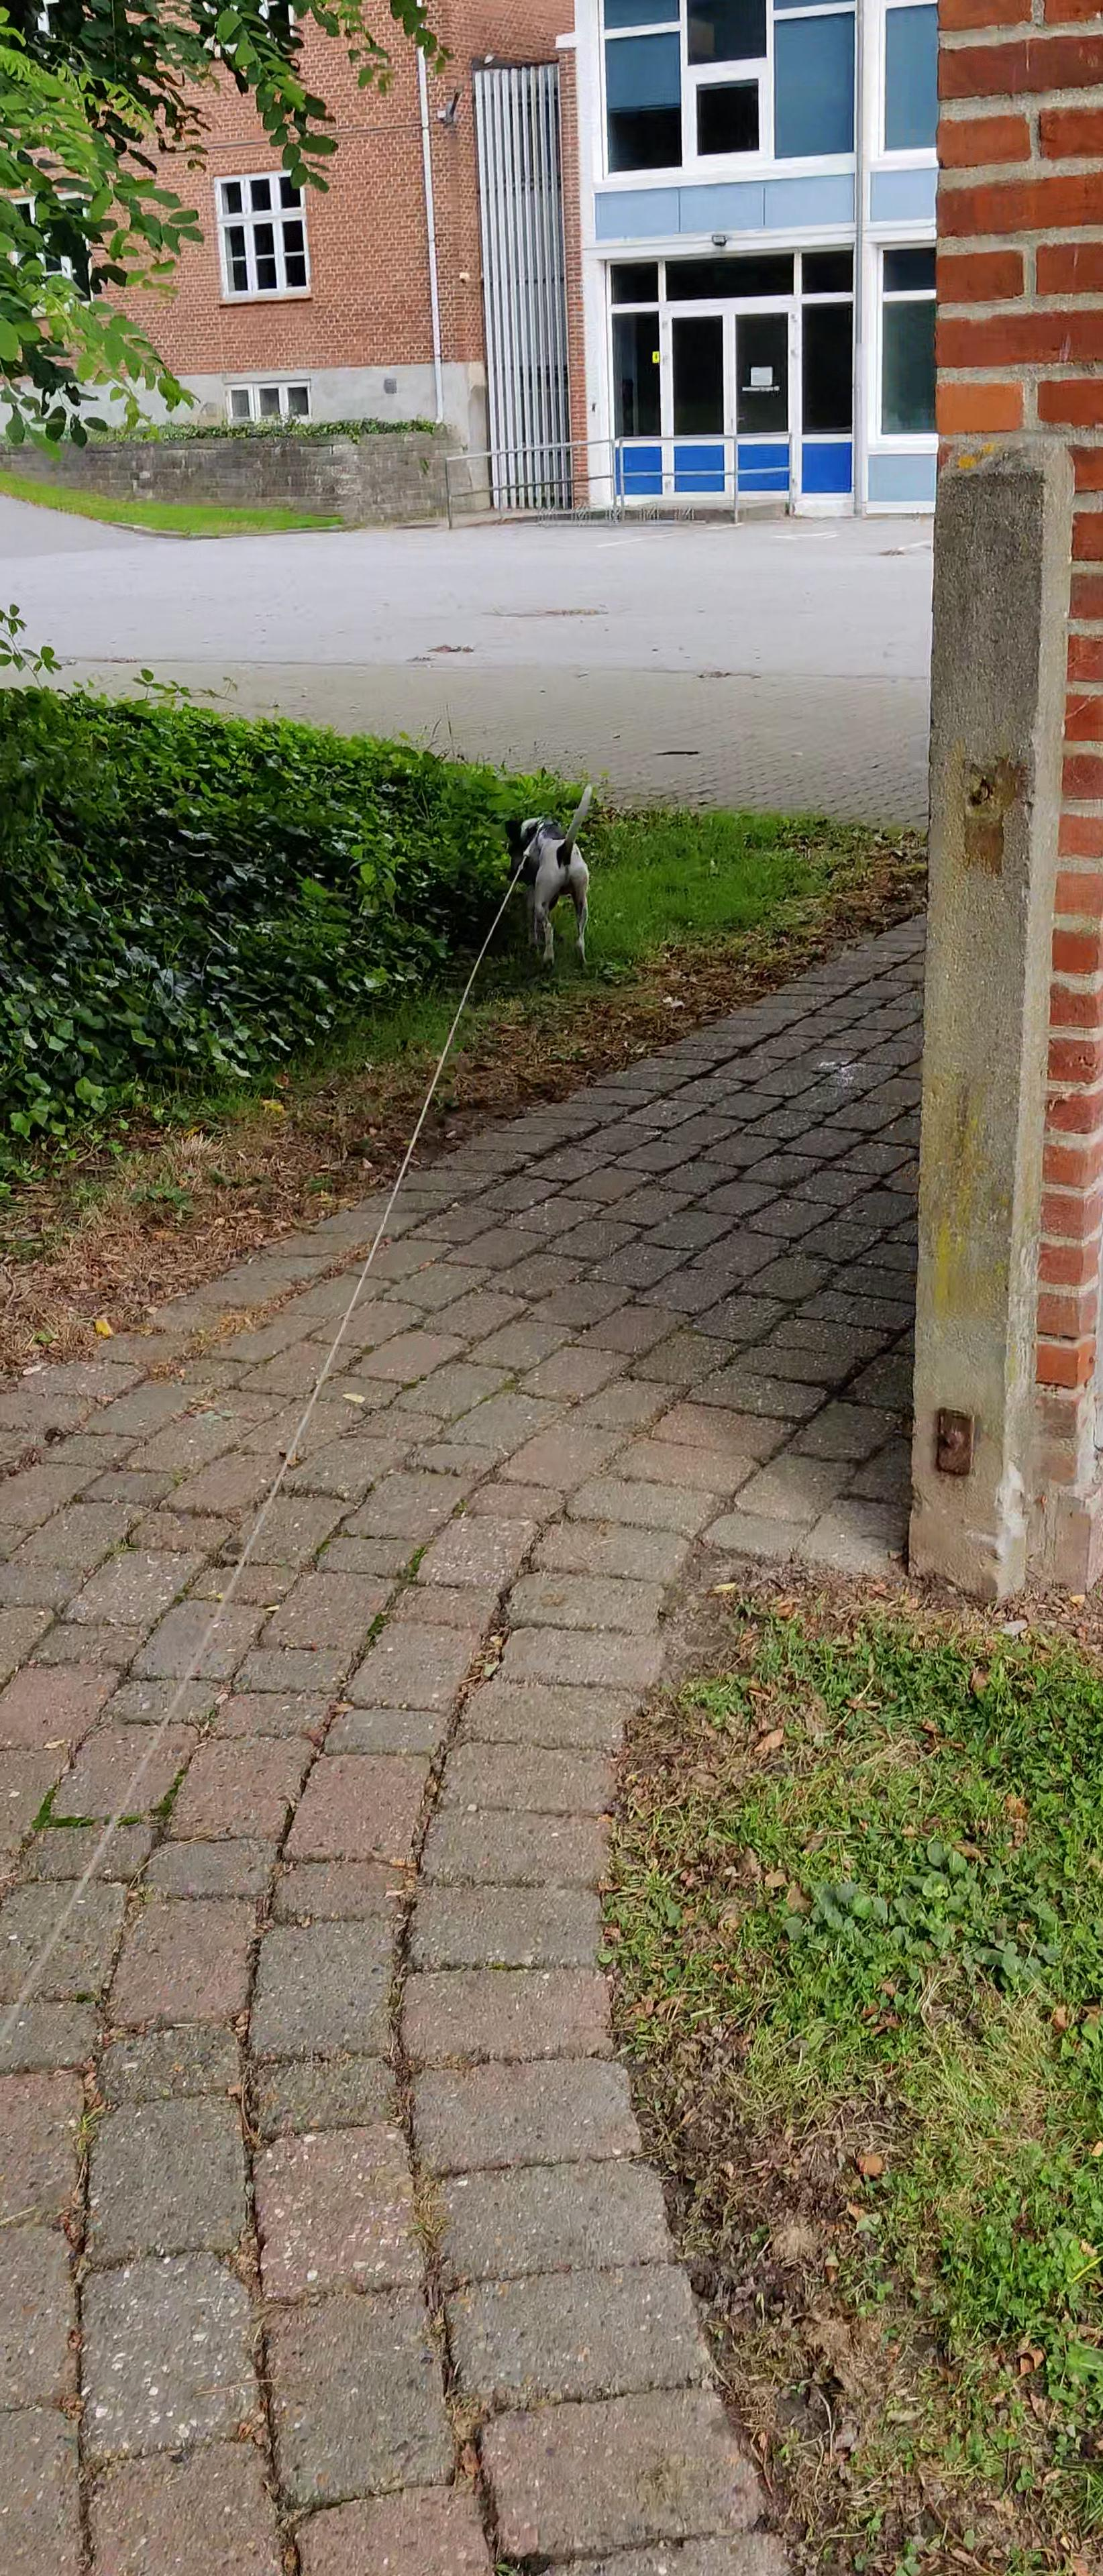Dog: (496, 779, 611, 973)
